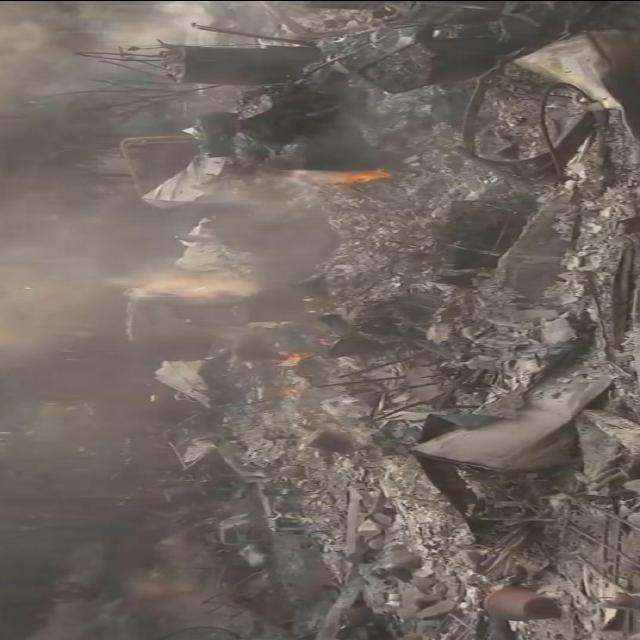Fire: (342, 168, 384, 185), (270, 351, 300, 367)
